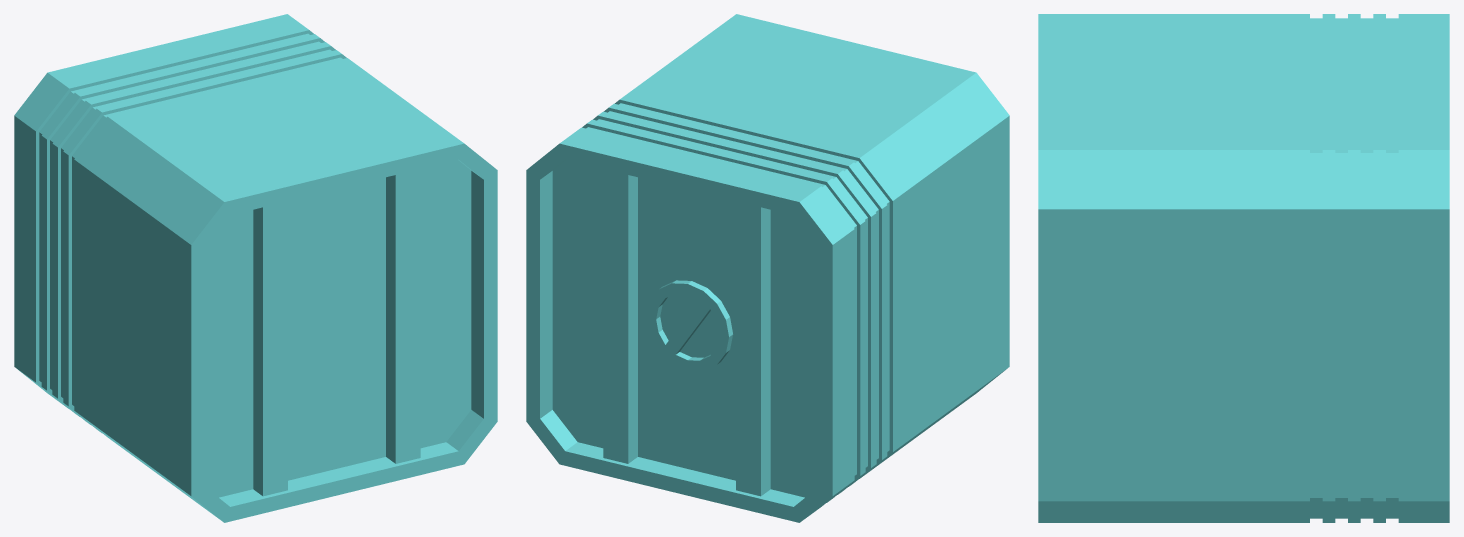
File: crate_2m.glb
3 views of the same model, side by side, from view 1: azimuth 30°, elevation 25°; view 2: azimuth 150°, elevation 25°; view 3: azimuth 270°, elevation 25° (orthographic). The views are drawn at different scales.
Parts seen in each view (by area): view 1: crate_2m; view 2: crate_2m; view 3: crate_2m.
Part boxes in pixels (<box>): crate_2m: <box>14,14,497,522</box>; crate_2m: <box>526,14,1009,522</box>; crate_2m: <box>1038,14,1449,522</box>.
Bounding box in the file's own units: 2 × 2 × 2.
